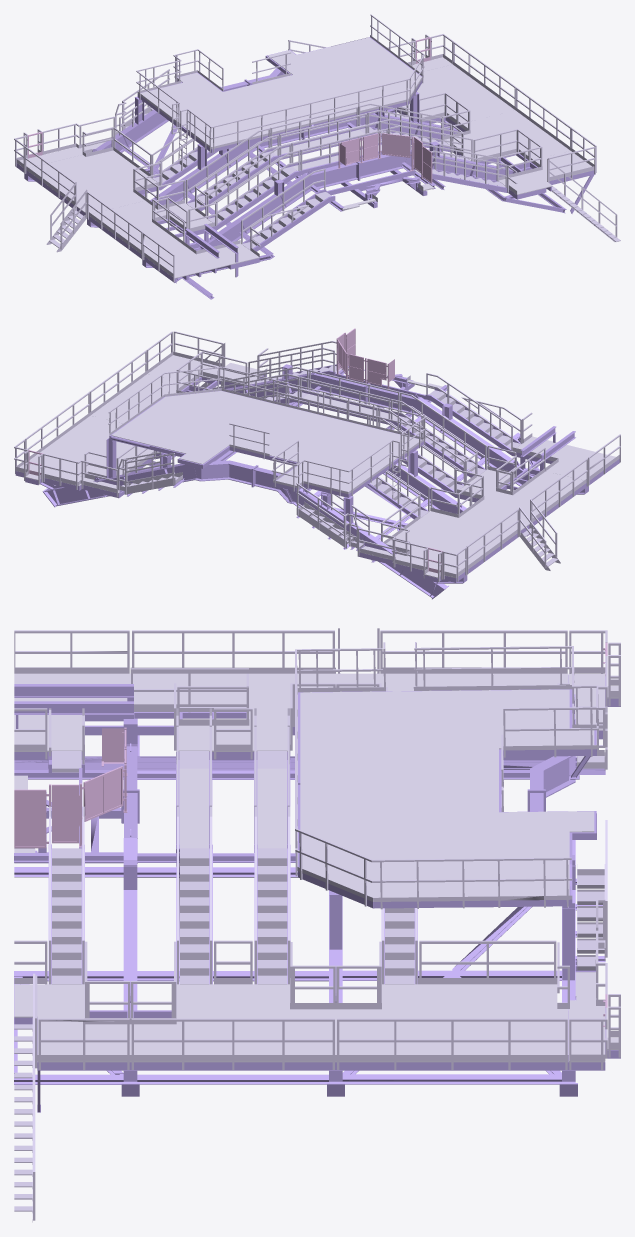
Rendered from HS-ARCHE-cut1.glb.
3 views of the same model, one above another, from view 1: azimuth 30°, elevation 25°; view 2: azimuth 150°, elevation 25°; view 3: azimuth 270°, elevation 25° (orthographic). The views are drawn at different scales.
Parts seen in each view (by area): view 1: _00000261AB2AD390_IndexedFaceSet, _00000261AB2A4090_IndexedFaceSet, _0000026192FB1880_004_IndexedFaceSet, _00000261AB2A67F0_IndexedFaceSet; view 2: _00000261AB2AD390_IndexedFaceSet, _00000261AB2A4090_IndexedFaceSet, _0000026192FB1880_004_IndexedFaceSet, _00000261AB2A67F0_IndexedFaceSet; view 3: _00000261AB2AD390_IndexedFaceSet, _00000261AB2A4090_IndexedFaceSet, _0000026192FB1880_004_IndexedFaceSet, _00000261AB2A67F0_IndexedFaceSet.
Part boxes in pixels (x1,y1,x2,y2): _00000261AB2AD390_IndexedFaceSet: (16,37,593,278); _00000261AB2A4090_IndexedFaceSet: (14,14,620,282); _0000026192FB1880_004_IndexedFaceSet: (16,37,595,299); _00000261AB2A67F0_IndexedFaceSet: (27,37,432,183); _00000261AB2AD390_IndexedFaceSet: (16,355,619,578); _00000261AB2A4090_IndexedFaceSet: (14,331,620,581); _0000026192FB1880_004_IndexedFaceSet: (15,364,619,599); _00000261AB2A67F0_IndexedFaceSet: (28,328,442,578); _00000261AB2AD390_IndexedFaceSet: (14,673,618,1062); _00000261AB2A4090_IndexedFaceSet: (14,628,620,1222); _0000026192FB1880_004_IndexedFaceSet: (14,675,620,1112); _00000261AB2A67F0_IndexedFaceSet: (14,642,607,1038).
Bounding box in the file's own units: 22.54 × 6.56 × 13.3.
